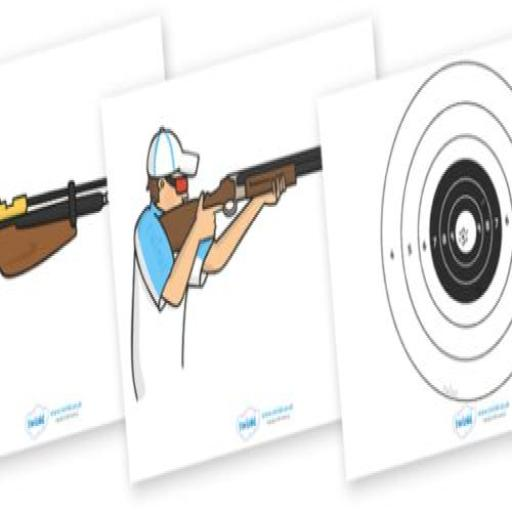shooting: (128, 123, 296, 405)
